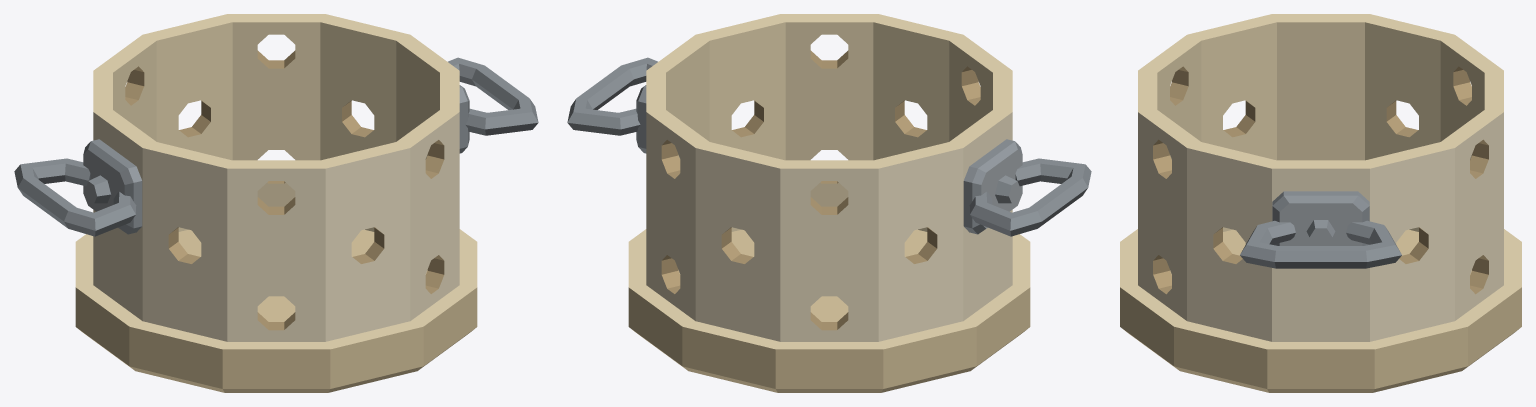
The model's file is FMS_Workshop_TOL_01.fbx.
The picture shows the model from 3 angles, left to right: view 1: azimuth 30°, elevation 25°; view 2: azimuth 150°, elevation 25°; view 3: azimuth 270°, elevation 25°; orthographic projection.
Visible parts, largest first — view 1: FMS_Workshop_TOL_01_Body; view 2: FMS_Workshop_TOL_01_Body; view 3: FMS_Workshop_TOL_01_Body.
Boxes of the visible parts, x1,y1,x2,y2 form: FMS_Workshop_TOL_01_Body: (14,14,538,392); FMS_Workshop_TOL_01_Body: (567,14,1091,392); FMS_Workshop_TOL_01_Body: (1120,14,1521,392).
Bounding box in the file's own units: 0.336 × 0.15 × 0.248.
